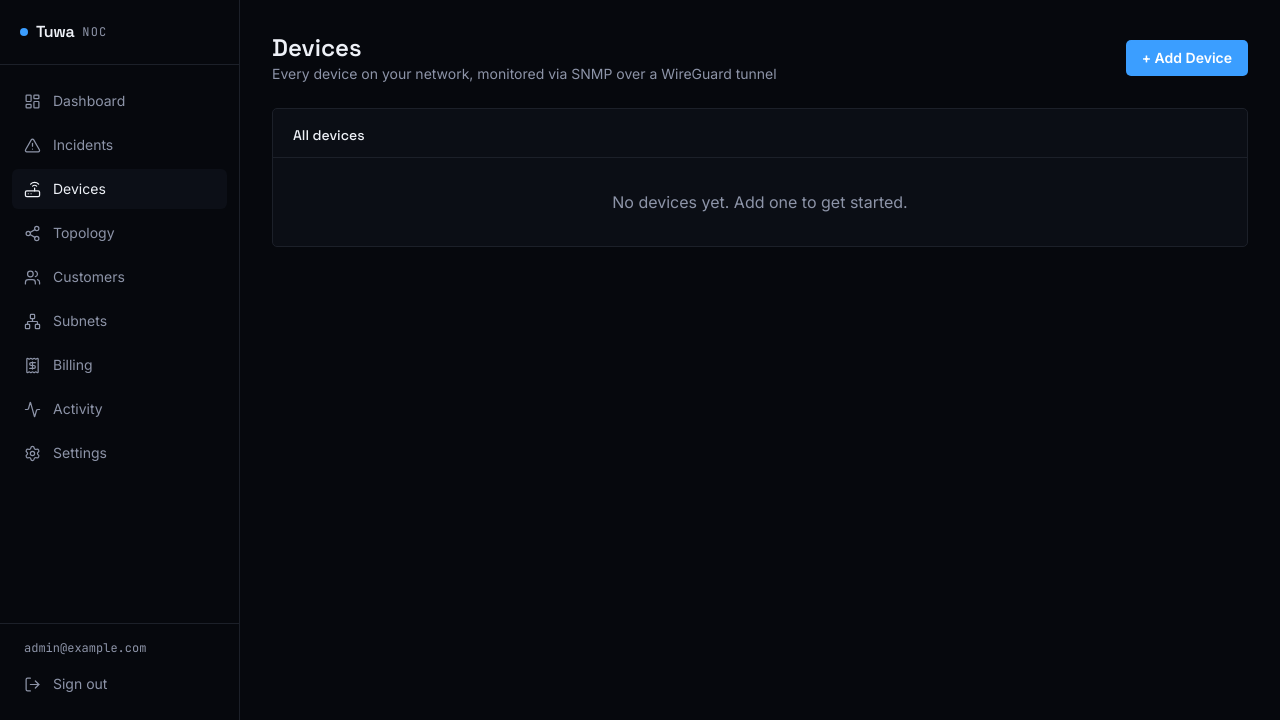
Test: Devices › opens the provisioning panel with a type dropdown defaulting to Router
This screenshot has width=1280, height=720.
Check: the text "No devices yet. Add one to get started." is shown, box [612,192,908,212]
Click the button "+ Add Device": (1187, 58) [1126,40,1248,76]
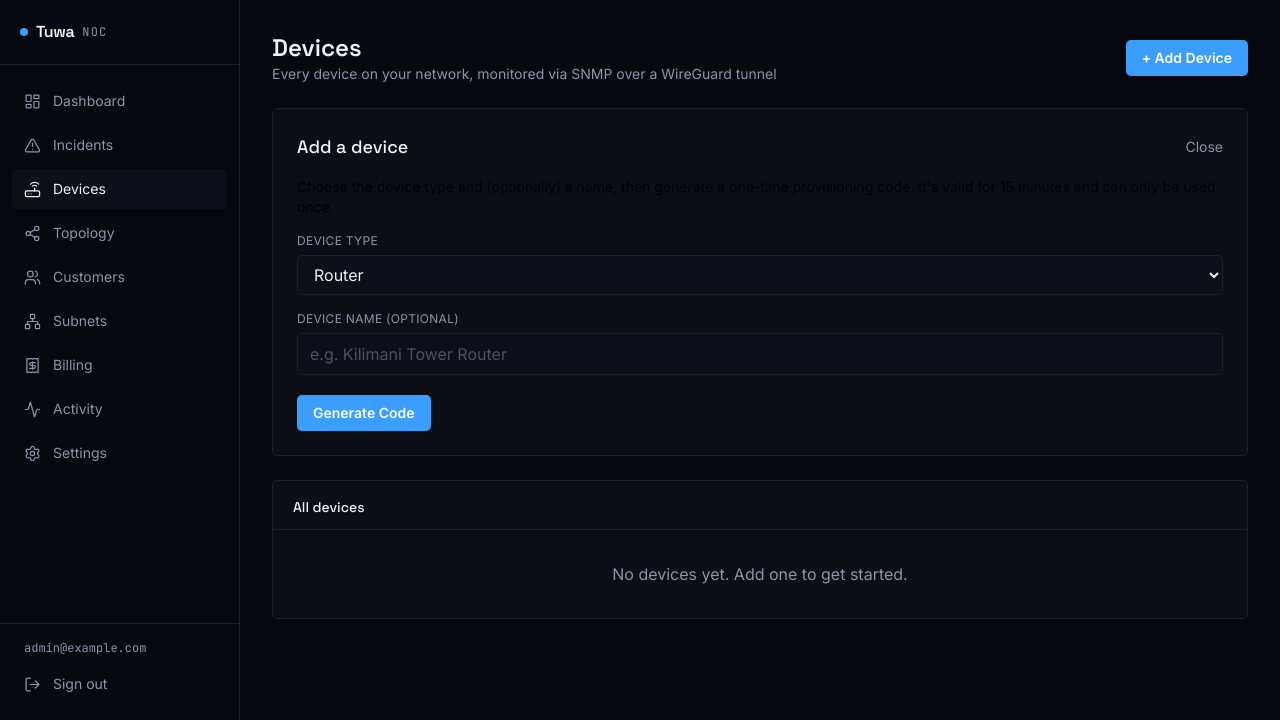
Check: the dropdown labelled "Device type" shows "Router", box [297,255,1223,295]
Check: the field labelled "Device name (optional)" is shown, box [297,333,1223,375]
